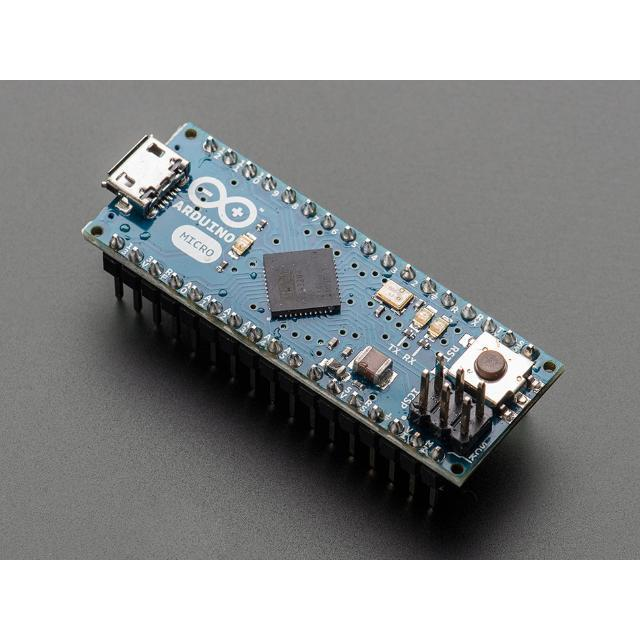Arduino-Micro: (83, 125, 562, 514)
